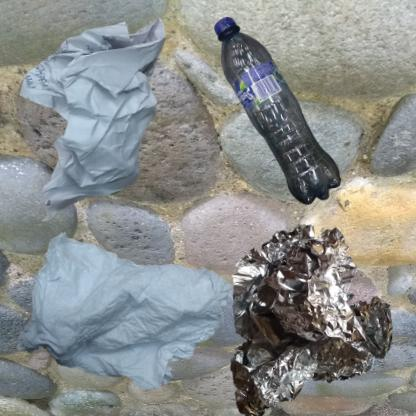aluminio: (213, 213, 407, 416)
botella: (213, 10, 345, 216)
papel: (10, 213, 269, 416), (10, 10, 194, 229)
